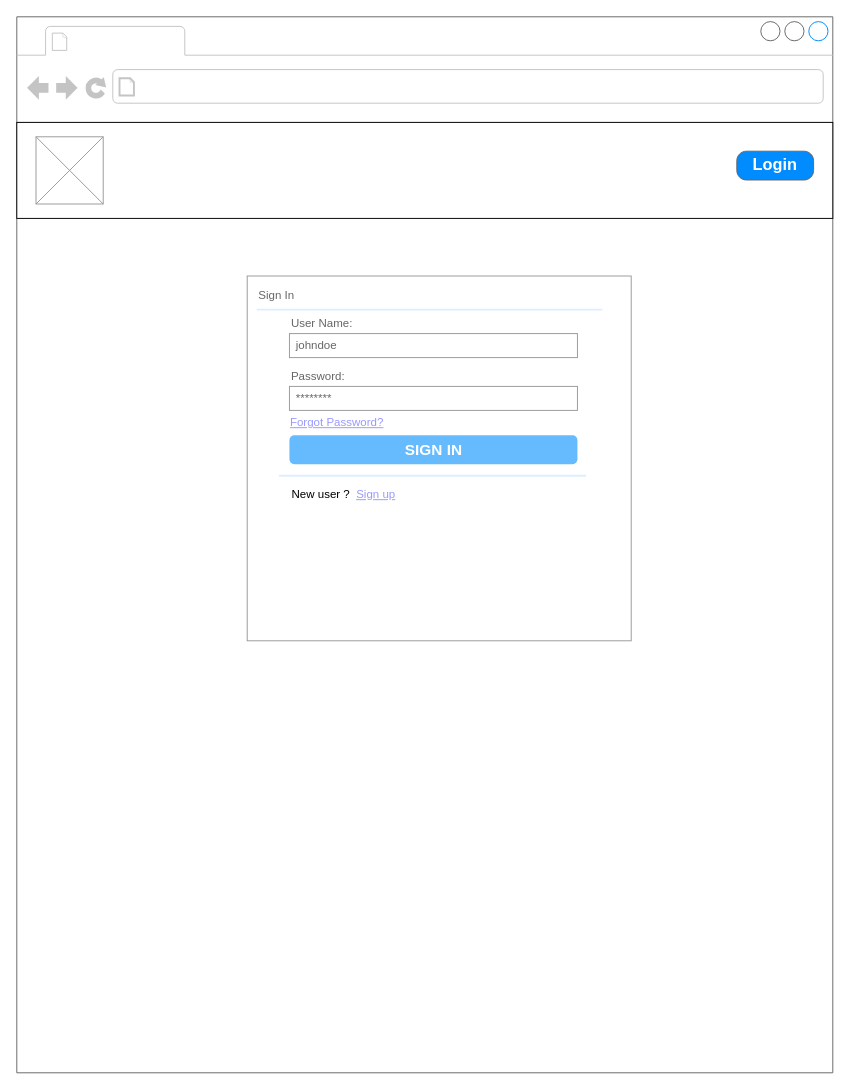
Some shapes in this 850 by 1090 pixel diagram are drawn without their labels. Each missing label, with the centre of its shape:
"Home" belongs at [126,40].
"https://www.bonappeatit.fr/login" belongs at [261,86].
